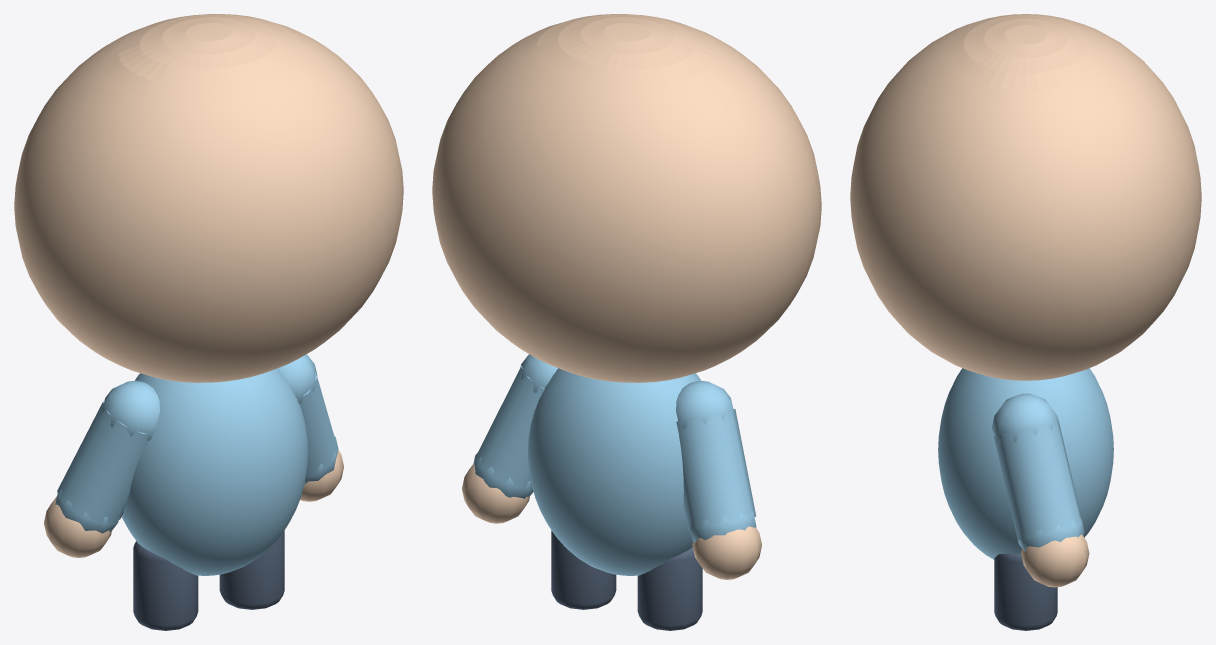
Rendered from Body_Slim.fbx.
3 renders of one model, left to right at view 1: azimuth 30°, elevation 25°; view 2: azimuth 150°, elevation 25°; view 3: azimuth 270°, elevation 25°, orthographic. The views are drawn at different scales.
Visible parts, largest first — view 1: Head, Body, Arm.001, Leg.001, Leg, Arm_Cap.002, Arm, Hand.001, Arm_Cap, Hand, Arm_Cap.003; view 2: Head, Body, Arm.001, Leg.001, Arm, Leg, Hand.001, Hand, Arm_Cap.002, Arm_Cap.003, Arm_Cap.001, Arm_Cap; view 3: Head, Body, Arm, Leg, Hand, Arm_Cap, Arm_Cap.001.
Boxes of the visible parts, <box> form: Head: <box>14,14,403,382</box>; Body: <box>121,368,308,575</box>; Arm.001: <box>57,400,148,524</box>; Leg.001: <box>133,541,198,630</box>; Leg: <box>219,530,284,609</box>; Arm_Cap.002: <box>101,380,159,440</box>; Arm: <box>299,372,338,476</box>; Hand.001: <box>44,496,111,557</box>; Arm_Cap: <box>278,354,317,403</box>; Hand: <box>300,450,343,501</box>; Arm_Cap.003: <box>55,489,119,533</box>; Head: <box>432,14,821,382</box>; Body: <box>527,368,701,575</box>; Arm.001: <box>676,409,756,529</box>; Leg.001: <box>637,547,702,630</box>; Arm: <box>475,366,544,489</box>; Leg: <box>551,530,616,609</box>; Hand.001: <box>692,526,761,579</box>; Hand: <box>462,464,529,523</box>; Arm_Cap.002: <box>676,380,735,429</box>; Arm_Cap.003: <box>690,511,756,542</box>; Arm_Cap.001: <box>473,452,533,498</box>; Arm_Cap: <box>520,354,557,392</box>; Head: <box>850,14,1201,380</box>; Body: <box>938,368,1113,559</box>; Arm: <box>993,421,1081,539</box>; Leg: <box>994,553,1057,630</box>; Hand: <box>1021,534,1089,587</box>; Arm_Cap: <box>992,393,1059,442</box>; Arm_Cap.001: <box>1018,518,1084,551</box>.
Size of the model in its own units: 80 by 128 by 72.
